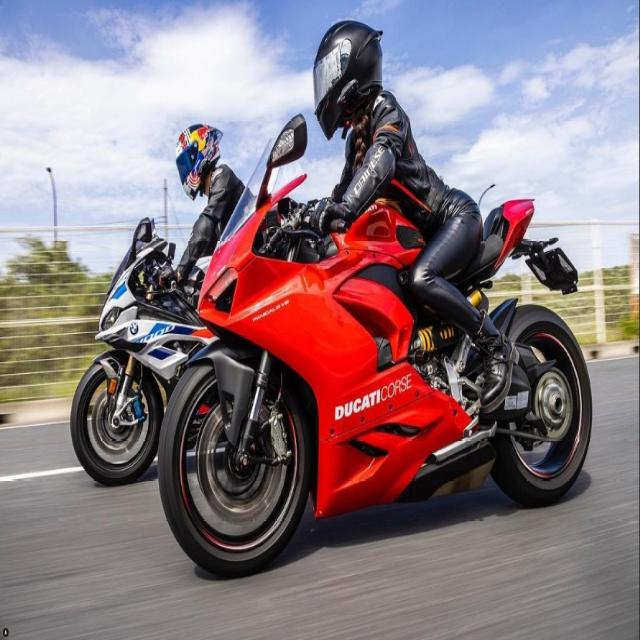helmet: (309, 12, 388, 149), (171, 117, 227, 206)
